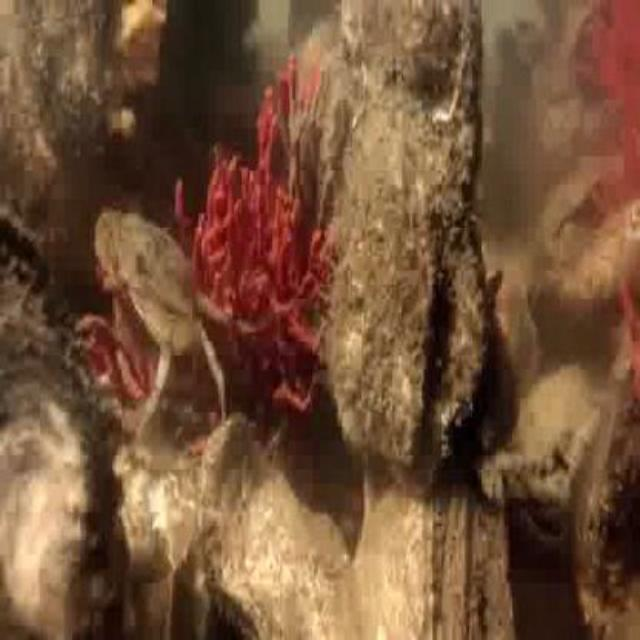Oyster-Closed: (0, 274, 126, 638)
Oyster-Open: (326, 0, 486, 482), (0, 202, 52, 290)
